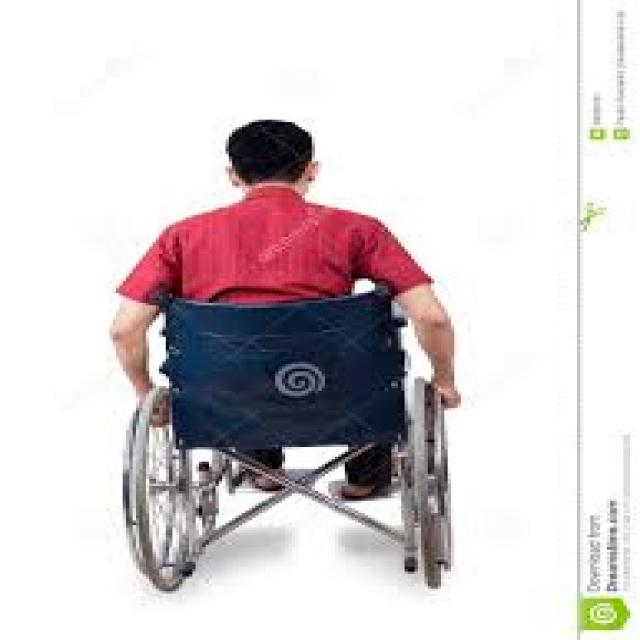wheelchairs: (110, 281, 484, 591)
